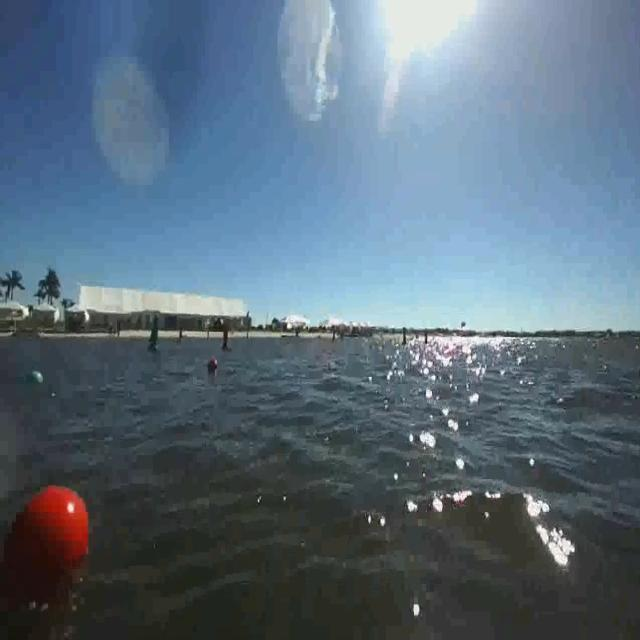black-buoy: (208, 358, 218, 370)
green-buoy: (26, 369, 41, 384)
green-column-buoy: (147, 315, 161, 353)
red-buoy: (2, 472, 108, 631)
